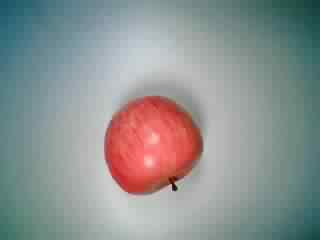apple: (100, 96, 206, 200)
